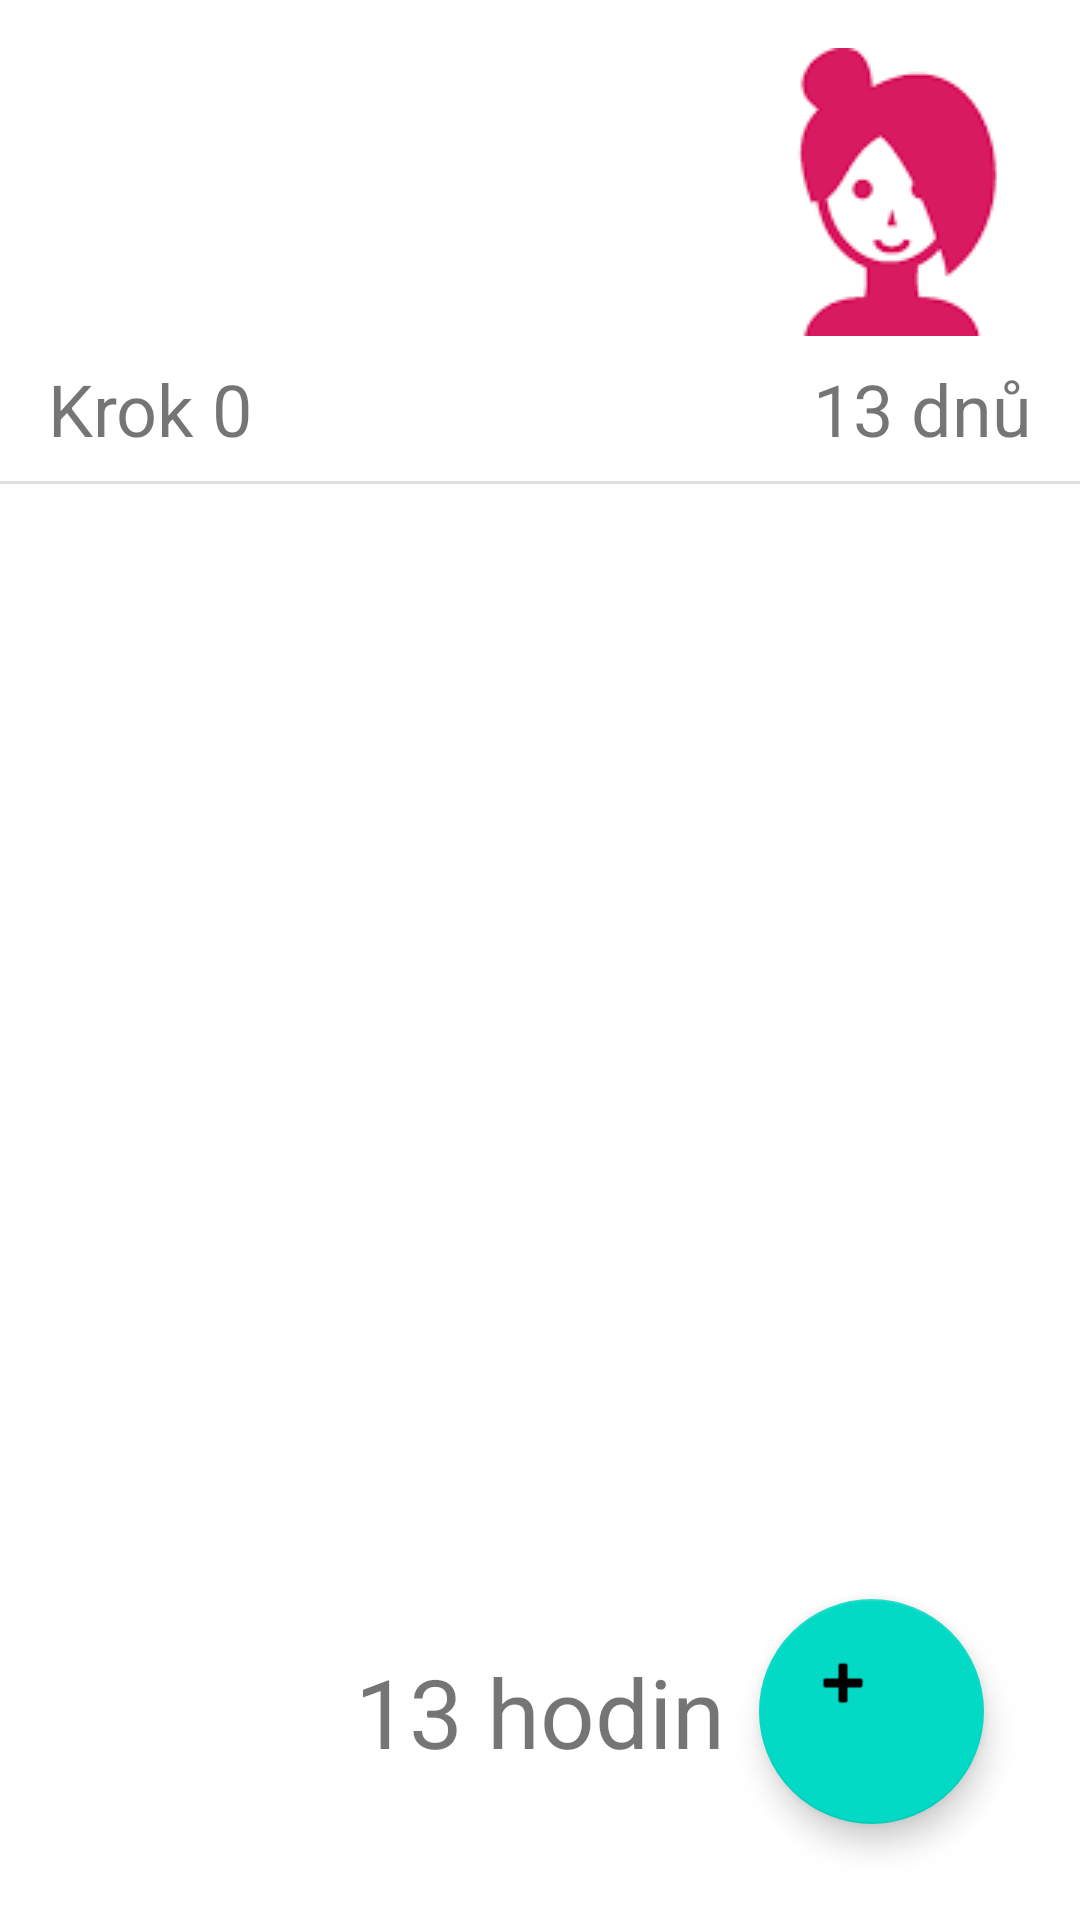

Icons on this 1080 × 1920 Android screen, each with the point to tap as point (x, y):
add: point (871, 1711)
profile: point (898, 192)
